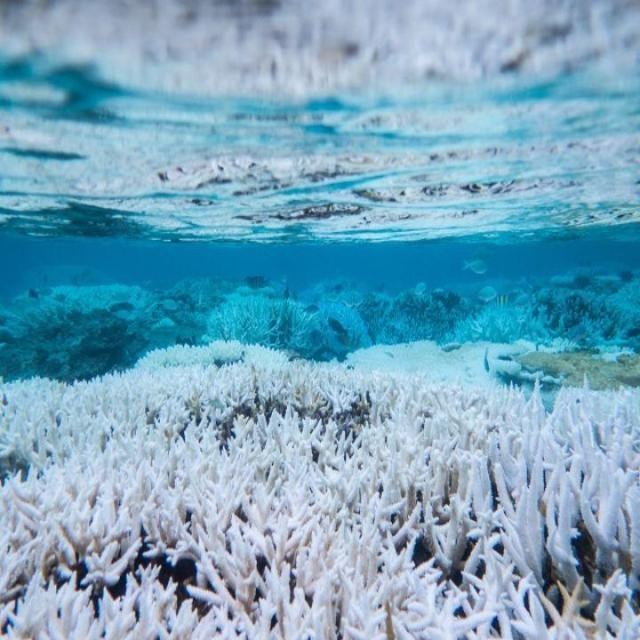Bleached: (1, 340, 640, 640)
